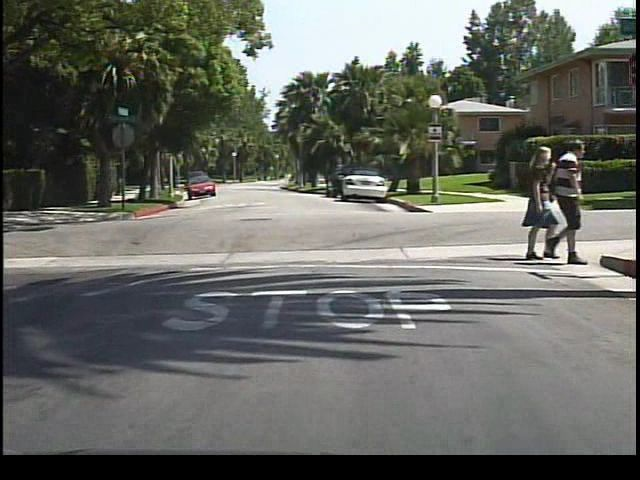person: (543, 136, 592, 267), (514, 146, 553, 259)
